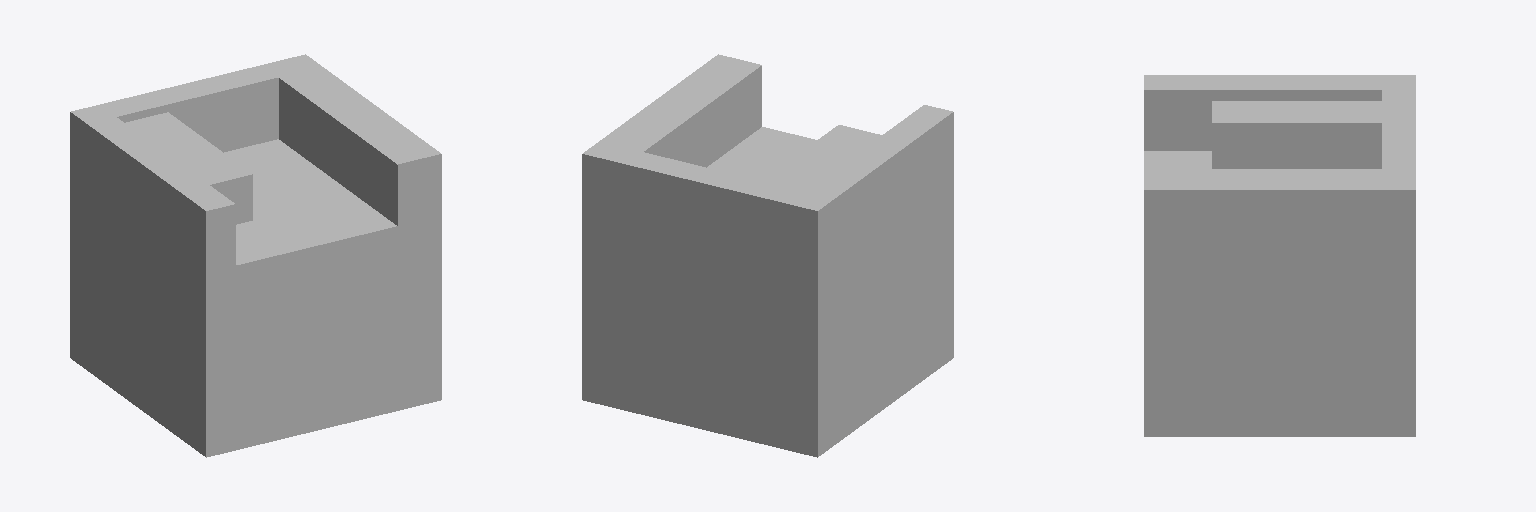
Rendered from pneumatic_door_base.obj.
The picture shows the model from 3 angles: view 1: azimuth 30°, elevation 25°; view 2: azimuth 150°, elevation 25°; view 3: azimuth 270°, elevation 25°; orthographic projection.
Size of the model in its own units: 1 by 1 by 1.